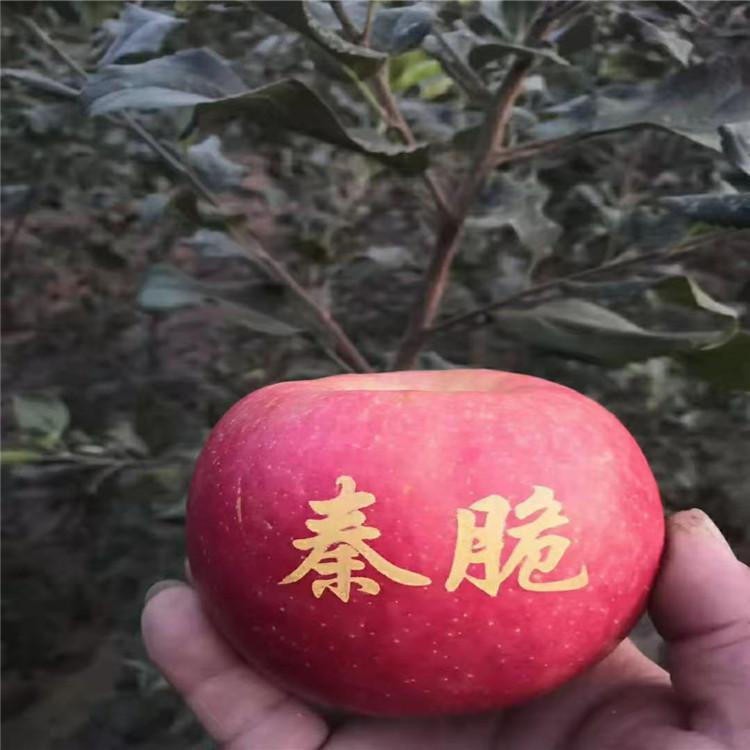apple: (179, 370, 672, 714)
